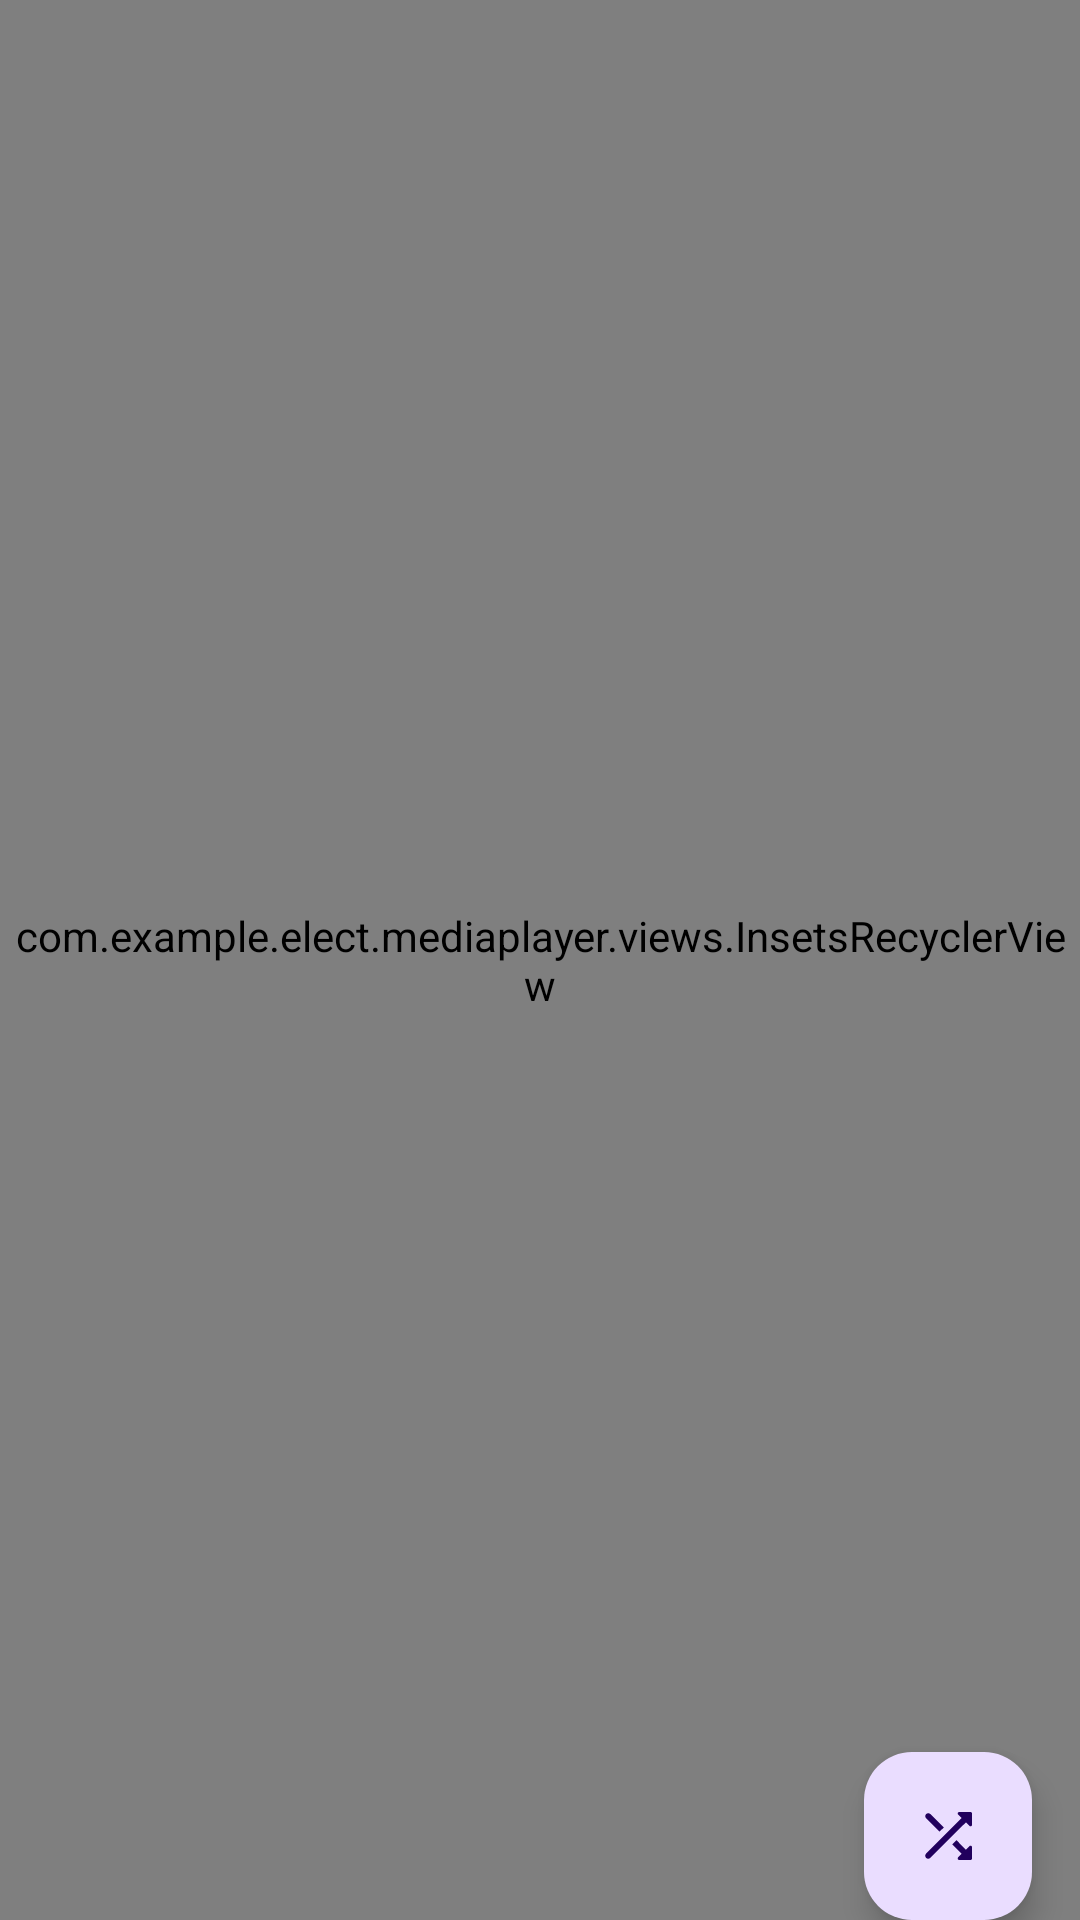

Icons on this 1080 x 1920 Android screen, each with its box as (x1, y1, x2, y2):
シャッフル: (864, 1752, 1032, 1920)
